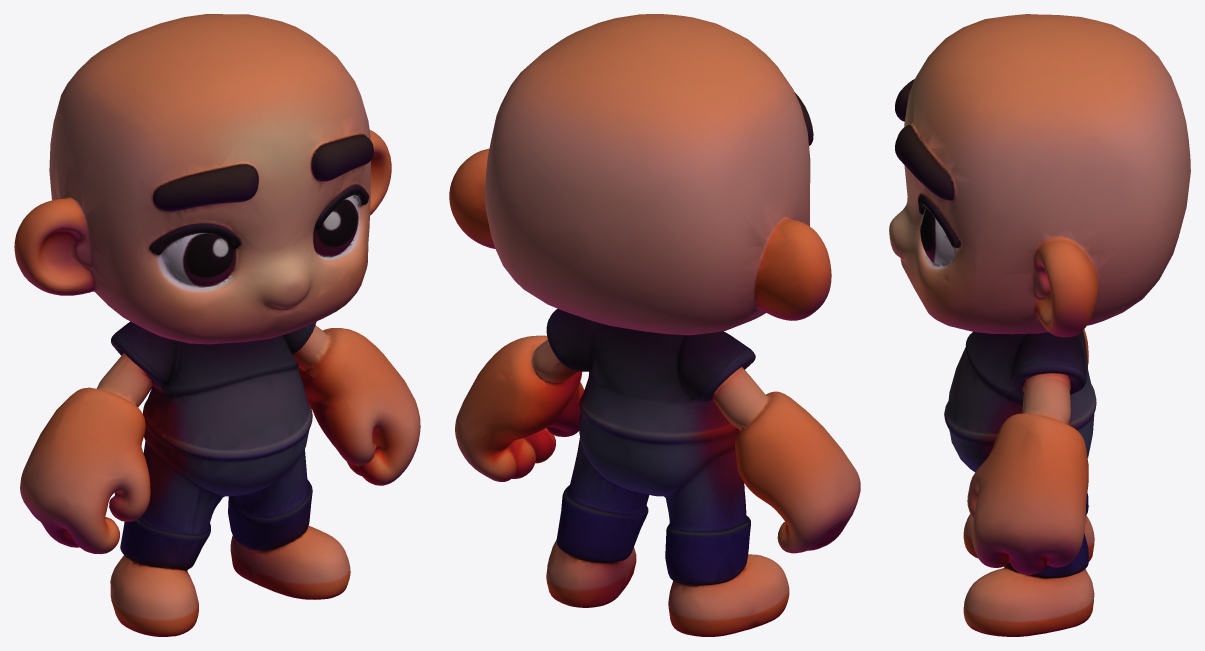
File: avatar_body_default.glb
The picture shows the model from 3 angles, left to right: view 1: azimuth 30°, elevation 25°; view 2: azimuth 150°, elevation 25°; view 3: azimuth 270°, elevation 25°; orthographic projection. The views are drawn at different scales.
Parts seen in each view (by area): view 1: world; view 2: world; view 3: world.
Part boxes in pixels (box(x1,y1,x2,y2)): world: box(14, 14, 420, 636); world: box(449, 14, 860, 636); world: box(889, 14, 1190, 636).
Bounding box in the file's own units: 1.41 × 1.99 × 0.9857.
1 material, 1 textured.
